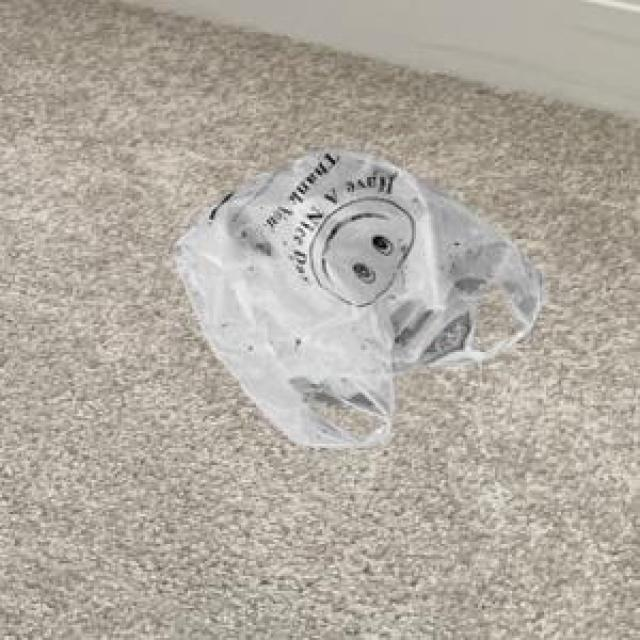waste: (176, 150, 544, 448)
